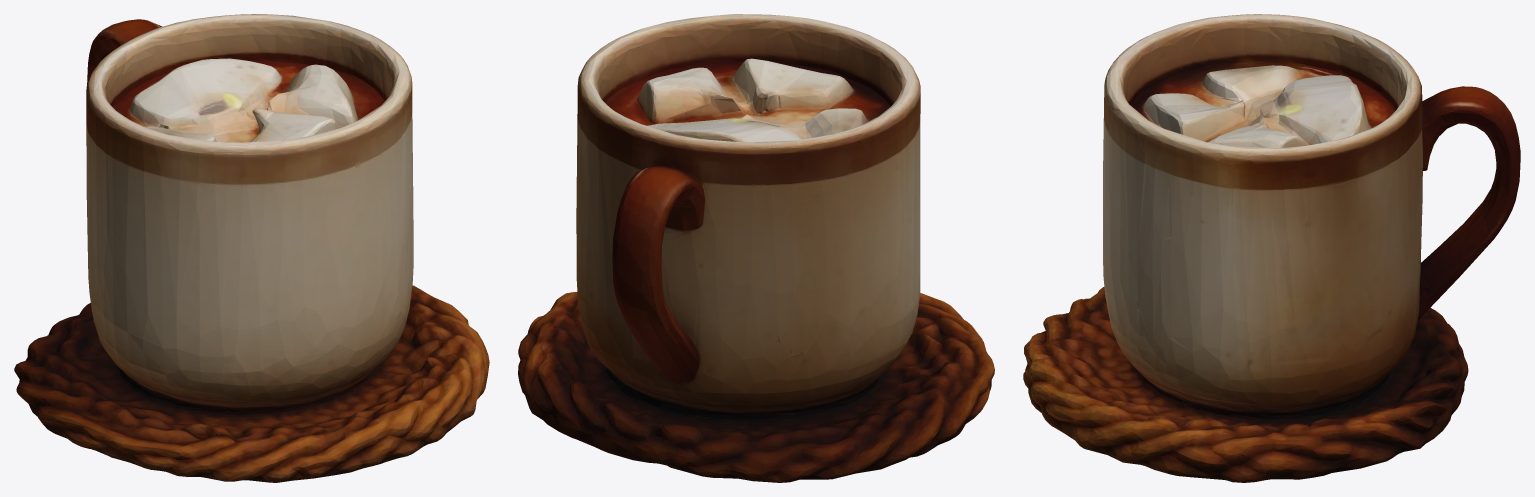
The model's file is latte-on-coaster.glb.
The picture shows the model from 3 angles, left to right: view 1: azimuth 30°, elevation 25°; view 2: azimuth 150°, elevation 25°; view 3: azimuth 270°, elevation 25°; orthographic projection. The views are drawn at different scales.
Parts seen in each view (by area): view 1: world; view 2: world; view 3: world.
Part boxes in pixels (x1=…): world: x1=14, y1=14, x2=489, y2=482; world: x1=518, y1=14, x2=994, y2=482; world: x1=1023, y1=14, x2=1520, y2=482.
Size of the model in its own units: 0.9527 by 0.6744 by 0.9959.
Materials: 1 (1 with a texture image).
